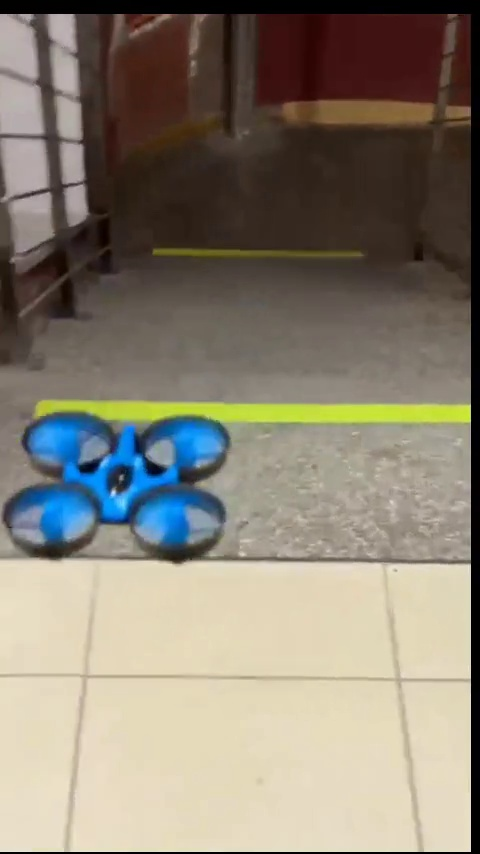drone: (12, 410, 227, 559)
